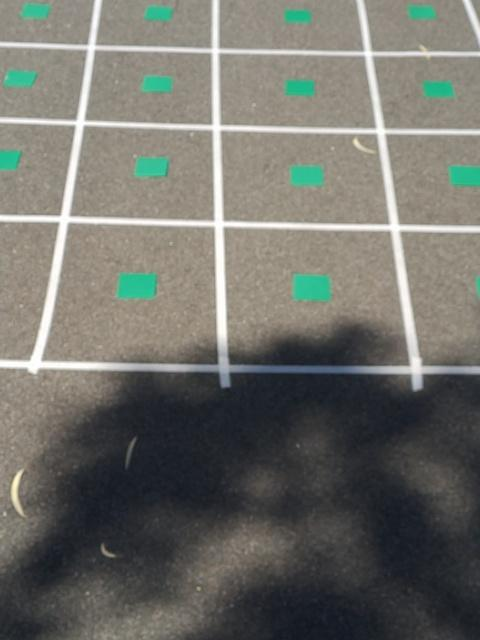weed: (113, 270, 159, 302), (291, 273, 334, 303), (132, 156, 171, 178), (289, 164, 324, 187), (448, 163, 480, 187), (282, 77, 318, 98), (421, 79, 456, 100), (1, 69, 40, 87), (140, 73, 173, 94), (16, 2, 52, 21), (141, 4, 174, 22), (406, 4, 437, 22), (0, 149, 24, 172), (282, 7, 312, 25), (475, 274, 480, 302)
